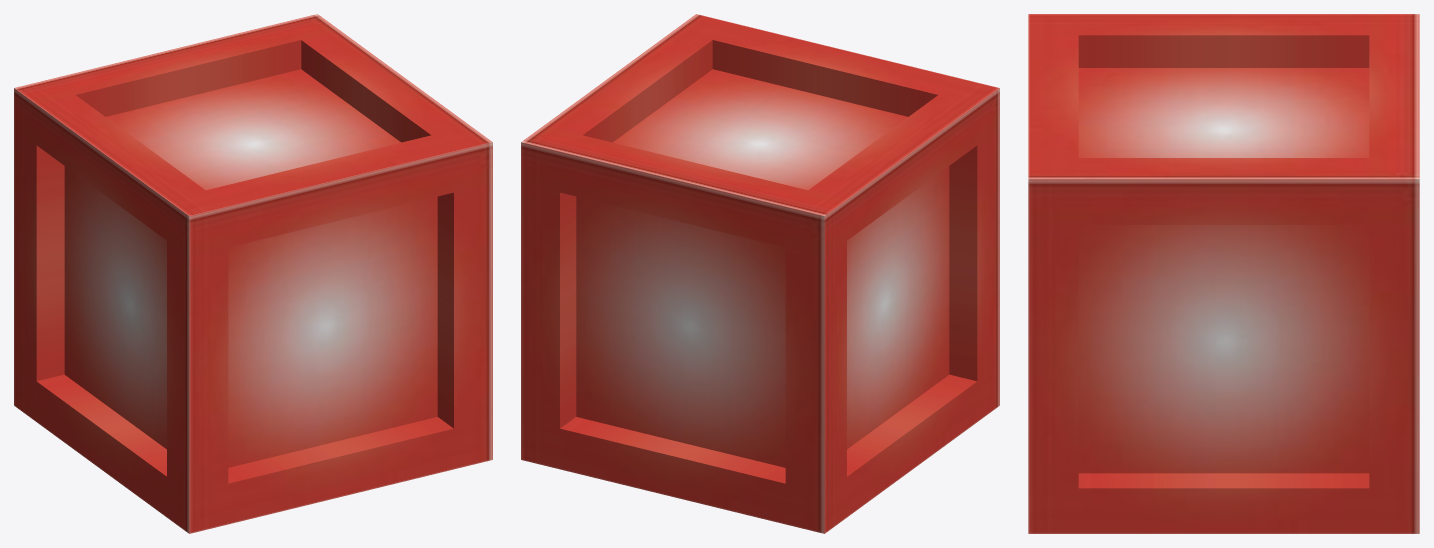
File: rbox.FBX
3 views of the same model, side by side, from view 1: azimuth 30°, elevation 25°; view 2: azimuth 150°, elevation 25°; view 3: azimuth 270°, elevation 25° (orthographic). The views are drawn at different scales.
Visible parts, largest first — view 1: Box04; view 2: Box04; view 3: Box04.
Boxes of the visible parts, x1=… form: Box04: x1=14, y1=14, x2=492, y2=533; Box04: x1=521, y1=14, x2=999, y2=533; Box04: x1=1028, y1=14, x2=1419, y2=533.
Bounding box in the file's own units: 25 × 25 × 25.
